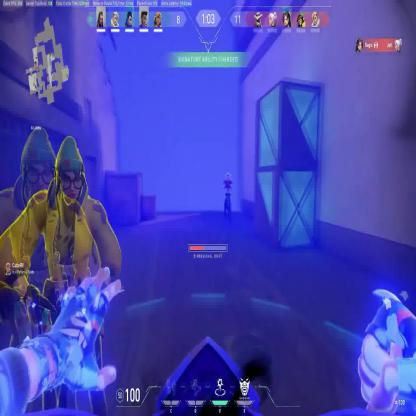enemy: (0, 136, 123, 416), (223, 172, 233, 220)
enemy_head: (55, 136, 86, 204), (226, 172, 231, 180)
